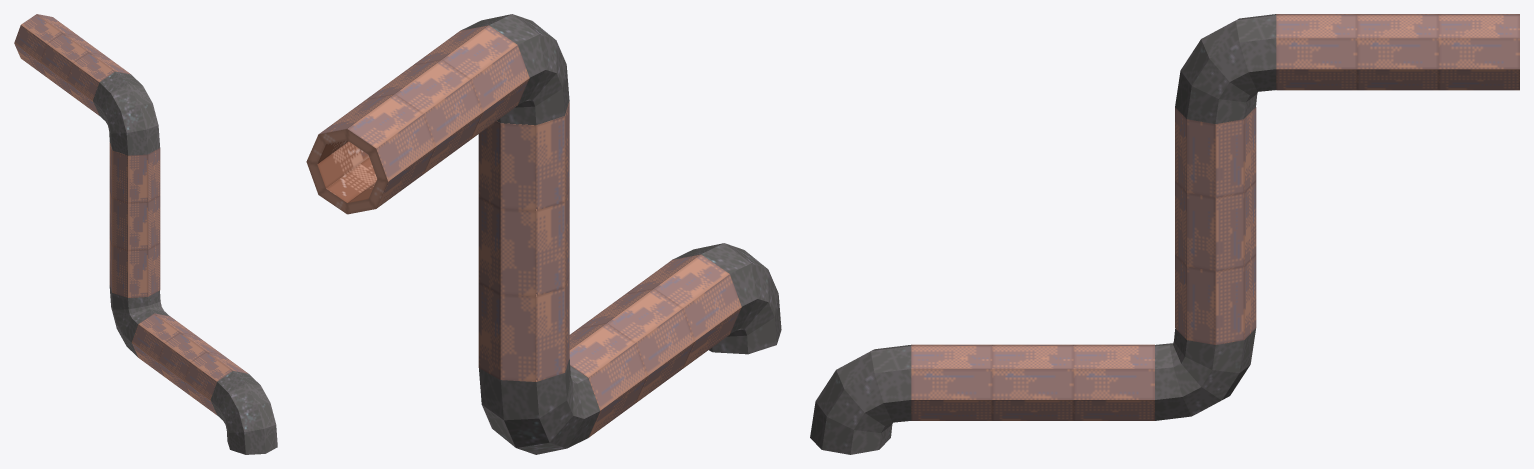
The model's file is Back_Pipe_Curved_1.obj.
The picture shows the model from 3 angles, left to right: view 1: azimuth 30°, elevation 25°; view 2: azimuth 150°, elevation 25°; view 3: azimuth 270°, elevation 25°; orthographic projection. The views are drawn at different scales.
Parts seen in each view (by area): view 1: rura_prosta.008; view 2: rura_prosta.008; view 3: rura_prosta.008.
Part boxes in pixels (x1=…): rura_prosta.008: x1=14, y1=14, x2=277, y2=454; rura_prosta.008: x1=306, y1=14, x2=781, y2=454; rura_prosta.008: x1=810, y1=14, x2=1519, y2=454.
Size of the model in its own units: 0.4007 by 2.29 by 3.49.
